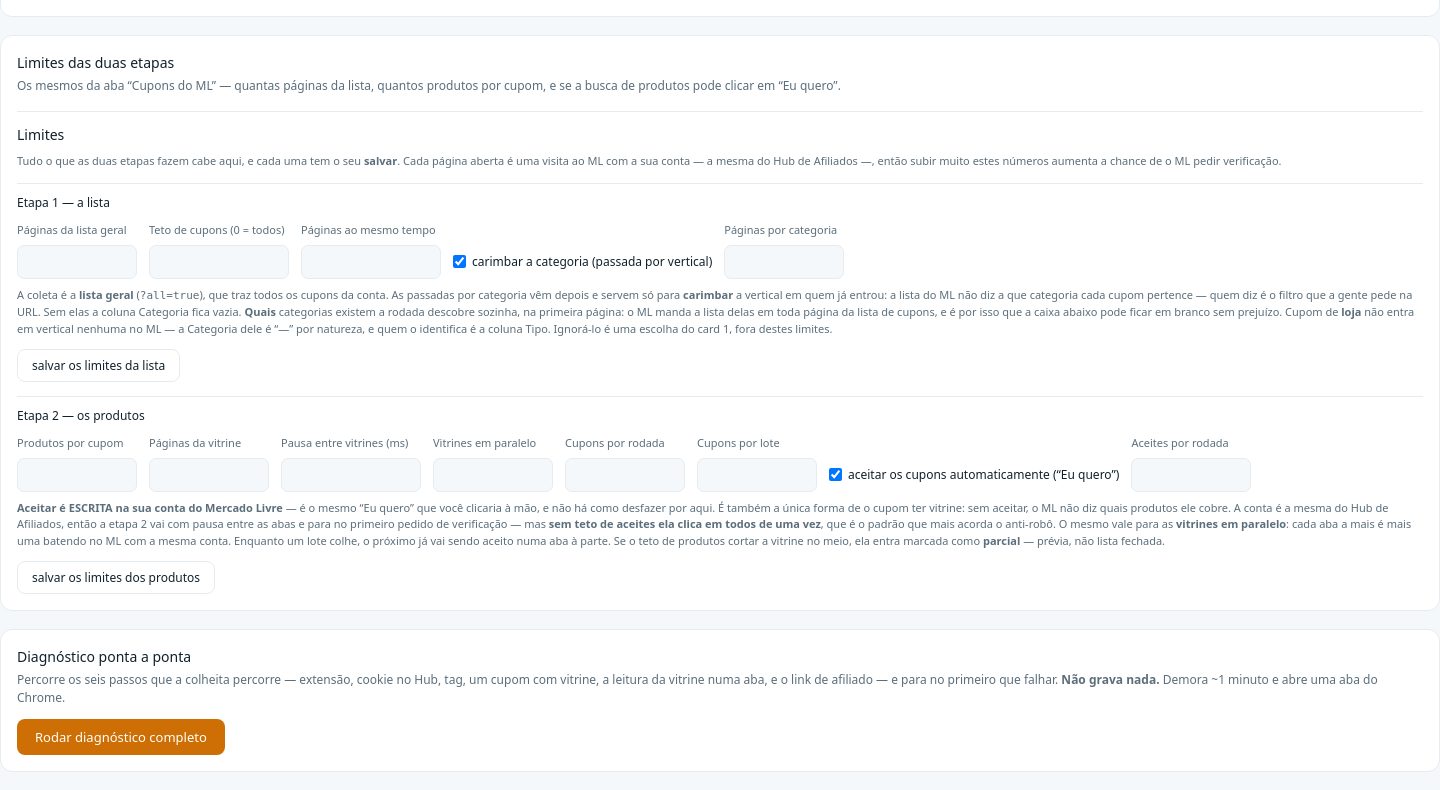
Scenario: o diagnóstico ponta a ponta › prova cookie e tag gerando um link de afiliado de verdade
(page scrolled)
What coordinates should you click on to do the following:
click the button "Rodar diagnóstico completo"
I would click on:
 (121, 737)
Its box is [17,719,225,755].
(page scrolled)
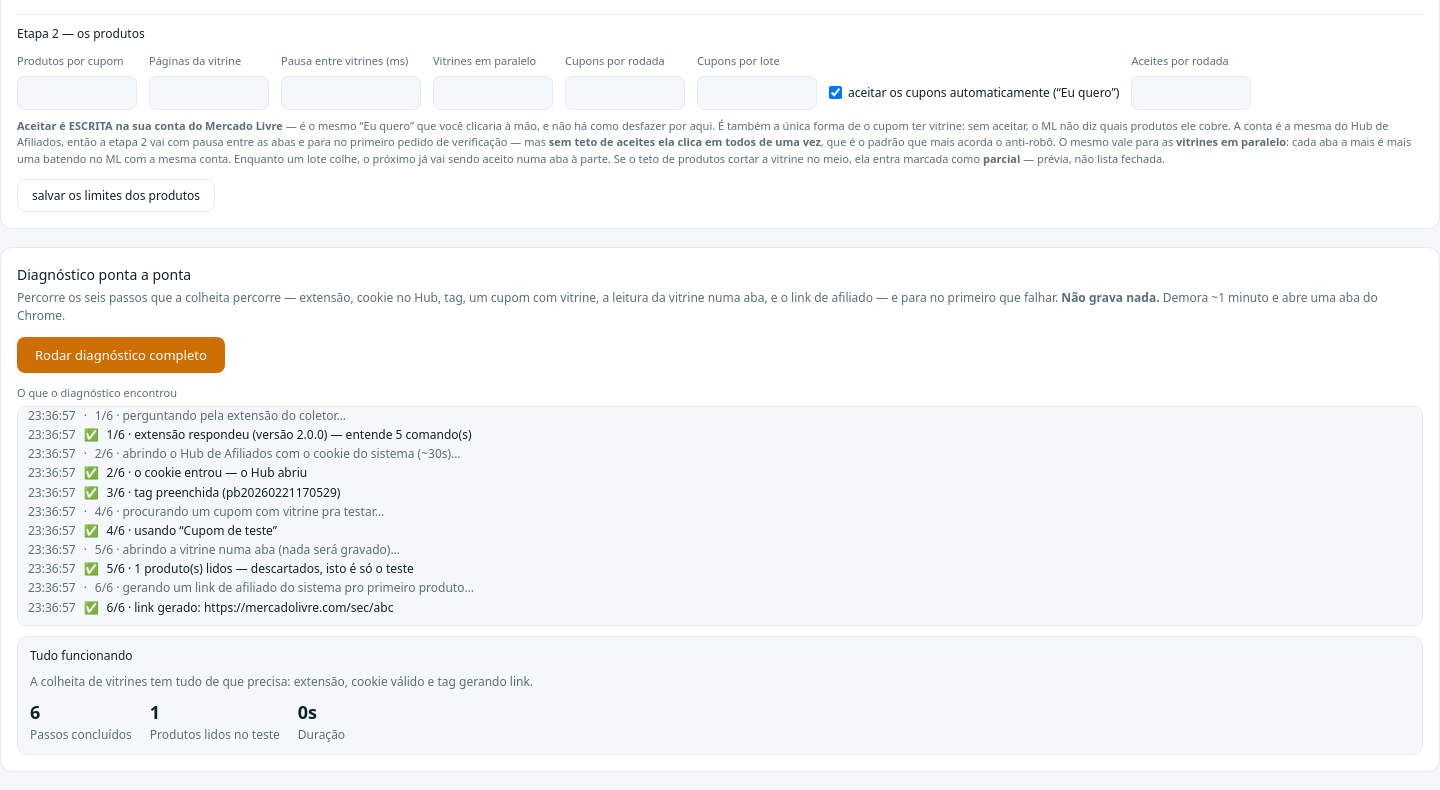
Result: the text "Tudo funcionando" is shown at [30,647,132,664]
Result: the text "5/6 · 1 produto(s) lidos — descartados, isto é só o teste" is shown at [107,560,414,577]
